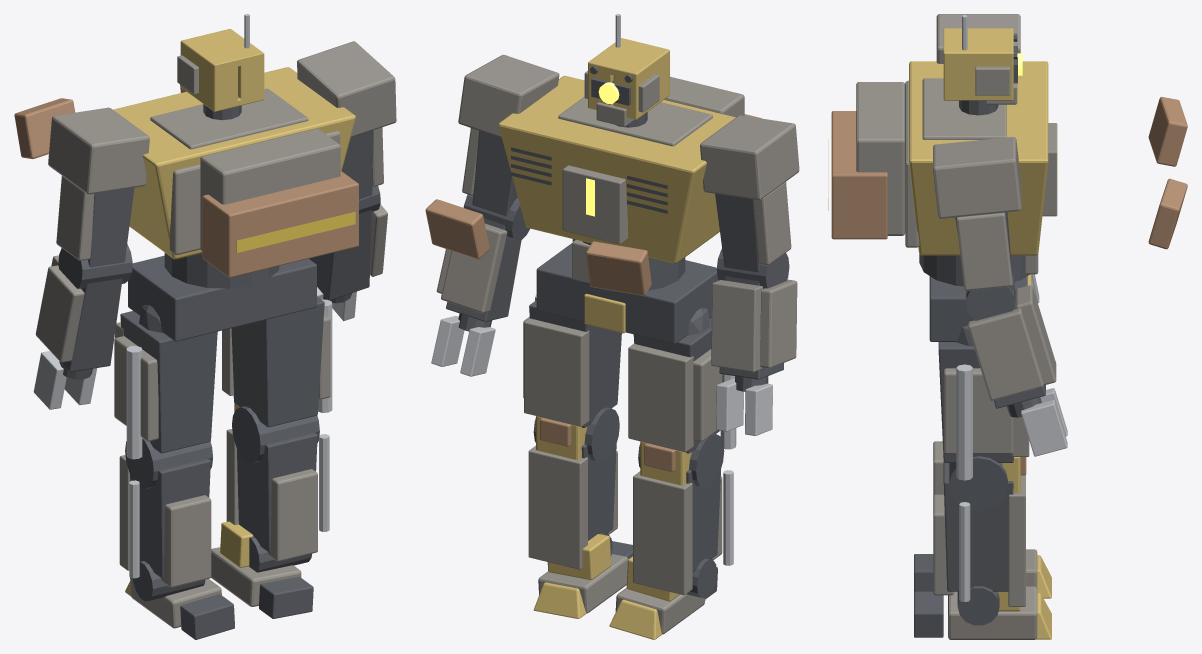
The model's file is mech_g0.glb.
3 views of the same model, side by side, from view 1: azimuth 30°, elevation 25°; view 2: azimuth 150°, elevation 25°; view 3: azimuth 270°, elevation 25° (orthographic). The views are drawn at different scales.
Visible parts, largest first — view 1: toolbox, chest, pelvis, thigh.001, thigh, backpack, pauldron, pauldron.001, skull, shin.001, collar, calf (+36 smaller); view 2: chest, pelvis, pauldron, shin_plate, shin_plate.001, thigh_plate, thigh_plate.001, pauldron.001, forearm_plate, cockpit, skull, forearm_plate.001 (+43 smaller); view 3: chest, pauldron.001, backpack, toolbox, shin.001, forearm_side.001, skull, upper_arm_plate.001, thigh_side.001, collar, foot.001, pelvis (+24 smaller).
Boxes of the visible parts, x1=… form: toolbox: x1=202, y1=171, x2=358, y2=277; chest: x1=113, y1=67, x2=355, y2=259; pelvis: x1=128, y1=255, x2=316, y2=341; thigh.001: x1=231, y1=297, x2=324, y2=427; thigh: x1=120, y1=311, x2=217, y2=453; backpack: x1=200, y1=128, x2=340, y2=251; pauldron: x1=48, y1=107, x2=149, y2=194; pauldron.001: x1=297, y1=41, x2=396, y2=137; skull: x1=180, y1=29, x2=264, y2=111; shin.001: x1=237, y1=433, x2=317, y2=552; collar: x1=150, y1=88, x2=308, y2=149; calf: x1=161, y1=495, x2=211, y2=587; chest: x1=498, y1=75, x2=735, y2=263; pelvis: x1=536, y1=243, x2=718, y2=344; pauldron: x1=700, y1=115, x2=799, y2=200; shin_plate: x1=633, y1=471, x2=692, y2=595; shin_plate.001: x1=528, y1=446, x2=587, y2=569; thigh_plate: x1=628, y1=343, x2=693, y2=452; thigh_plate.001: x1=524, y1=318, x2=589, y2=426; pauldron.001: x1=458, y1=54, x2=559, y2=137; forearm_plate: x1=711, y1=280, x2=762, y2=372; cockpit: x1=562, y1=165, x2=628, y2=244; skull: x1=588, y1=38, x2=669, y2=119; forearm_plate.001: x1=441, y1=223, x2=507, y2=313; chest: x1=909, y1=61, x2=1048, y2=255; pauldron.001: x1=933, y1=137, x2=1021, y2=218; backpack: x1=856, y1=82, x2=905, y2=235; toolbox: x1=831, y1=111, x2=887, y2=239; shin.001: x1=943, y1=462, x2=1013, y2=591; forearm_side.001: x1=968, y1=308, x2=1043, y2=400; skull: x1=943, y1=28, x2=1013, y2=100; upper_arm_plate.001: x1=956, y1=212, x2=1012, y2=290; thigh_side.001: x1=943, y1=368, x2=1013, y2=454; collar: x1=922, y1=78, x2=1006, y2=139; foot.001: x1=948, y1=586, x2=1037, y2=639; pelvis: x1=929, y1=276, x2=1027, y2=341.
Size of the model in its own units: 8.43 by 14.23 by 7.71.
